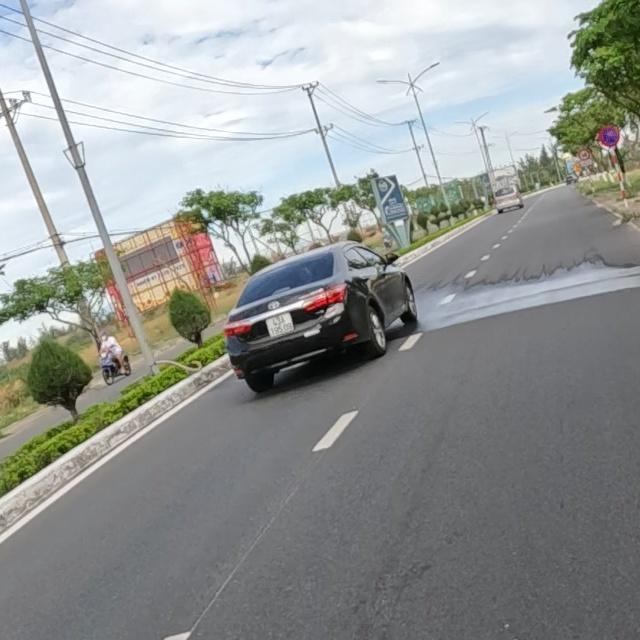license-plate: (264, 311, 295, 339)
